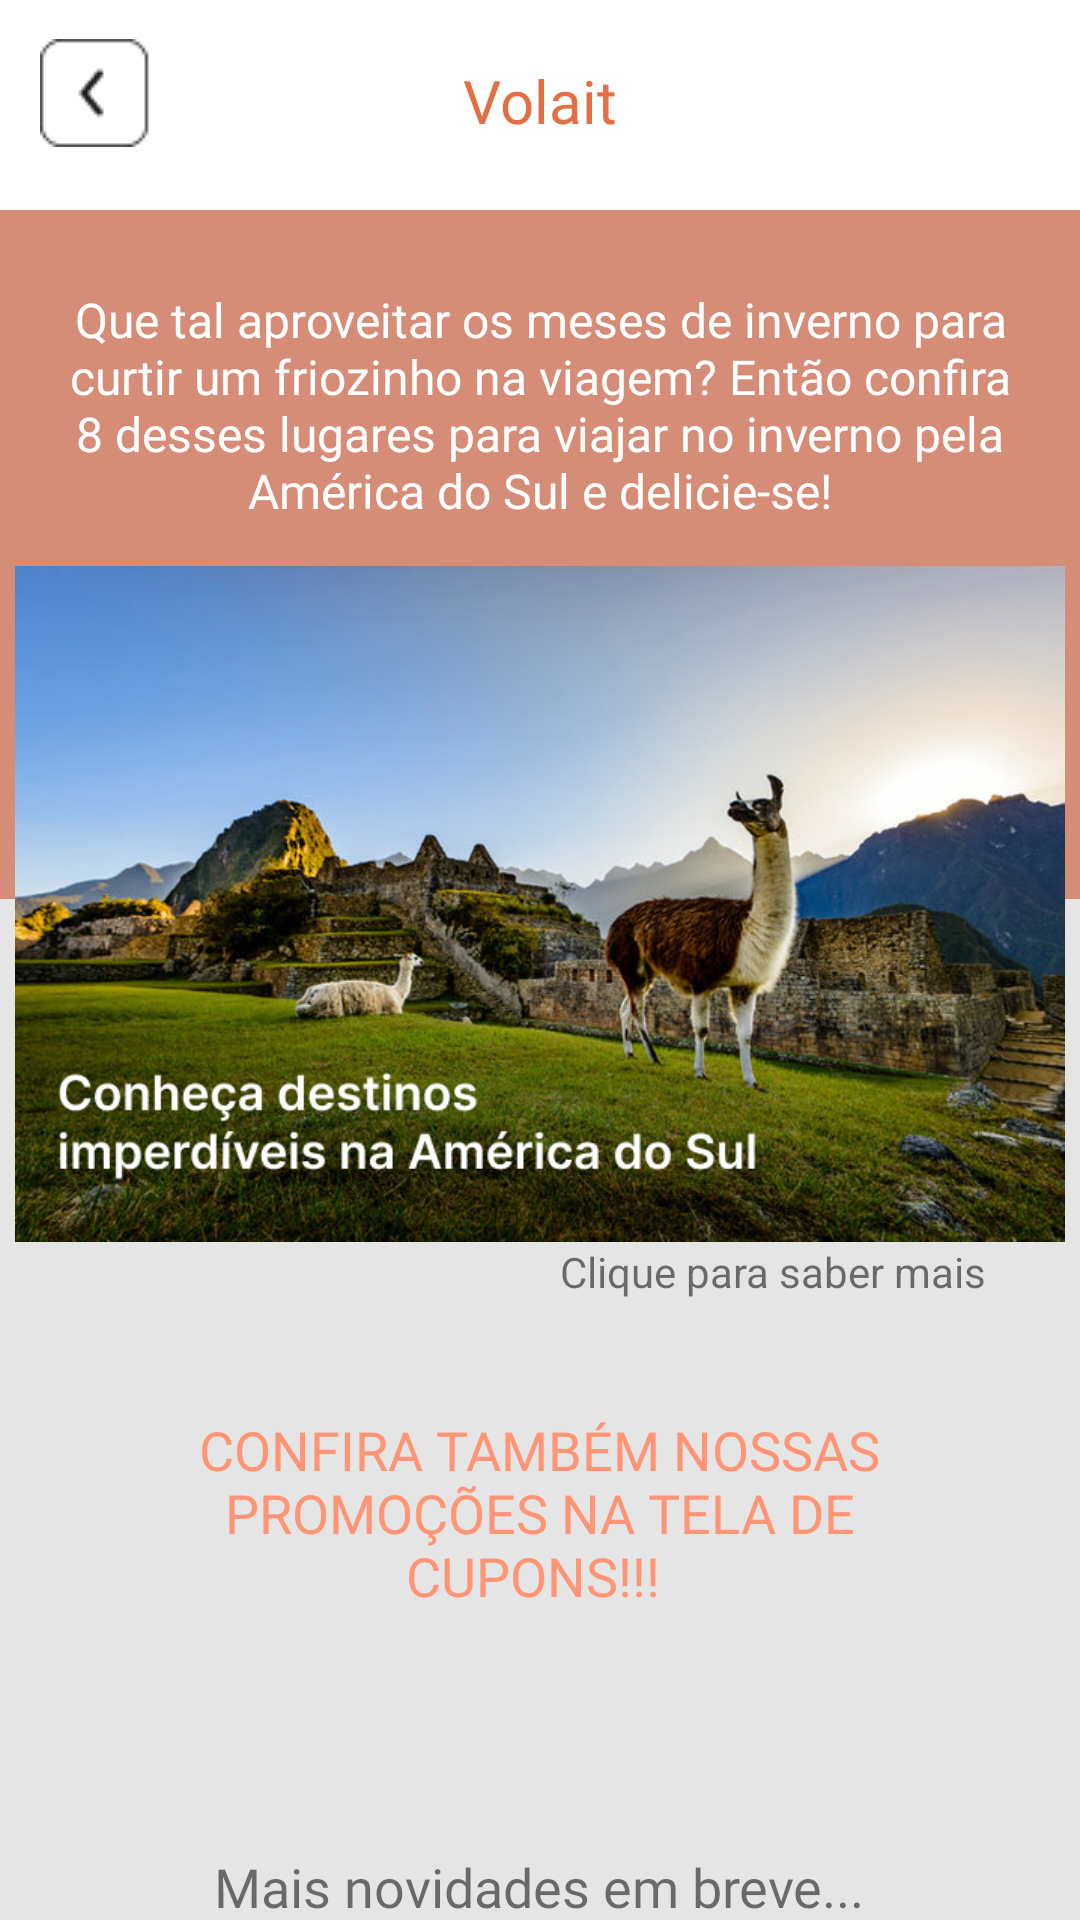

Icon bounding boxes for this 1080px×1920px phone screenshot, format [left=x1, top=y1, right=x2, bottom=y2]:
setinha: [left=40, top=39, right=149, bottom=147]
